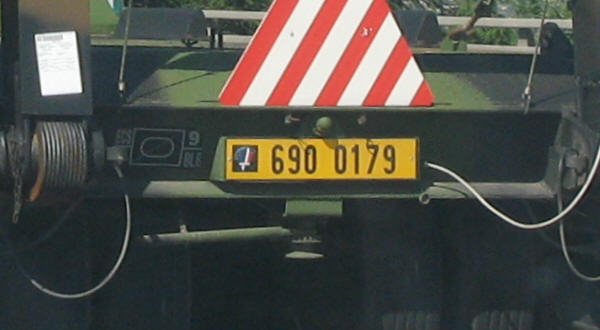license_plate: (224, 137, 418, 181)
